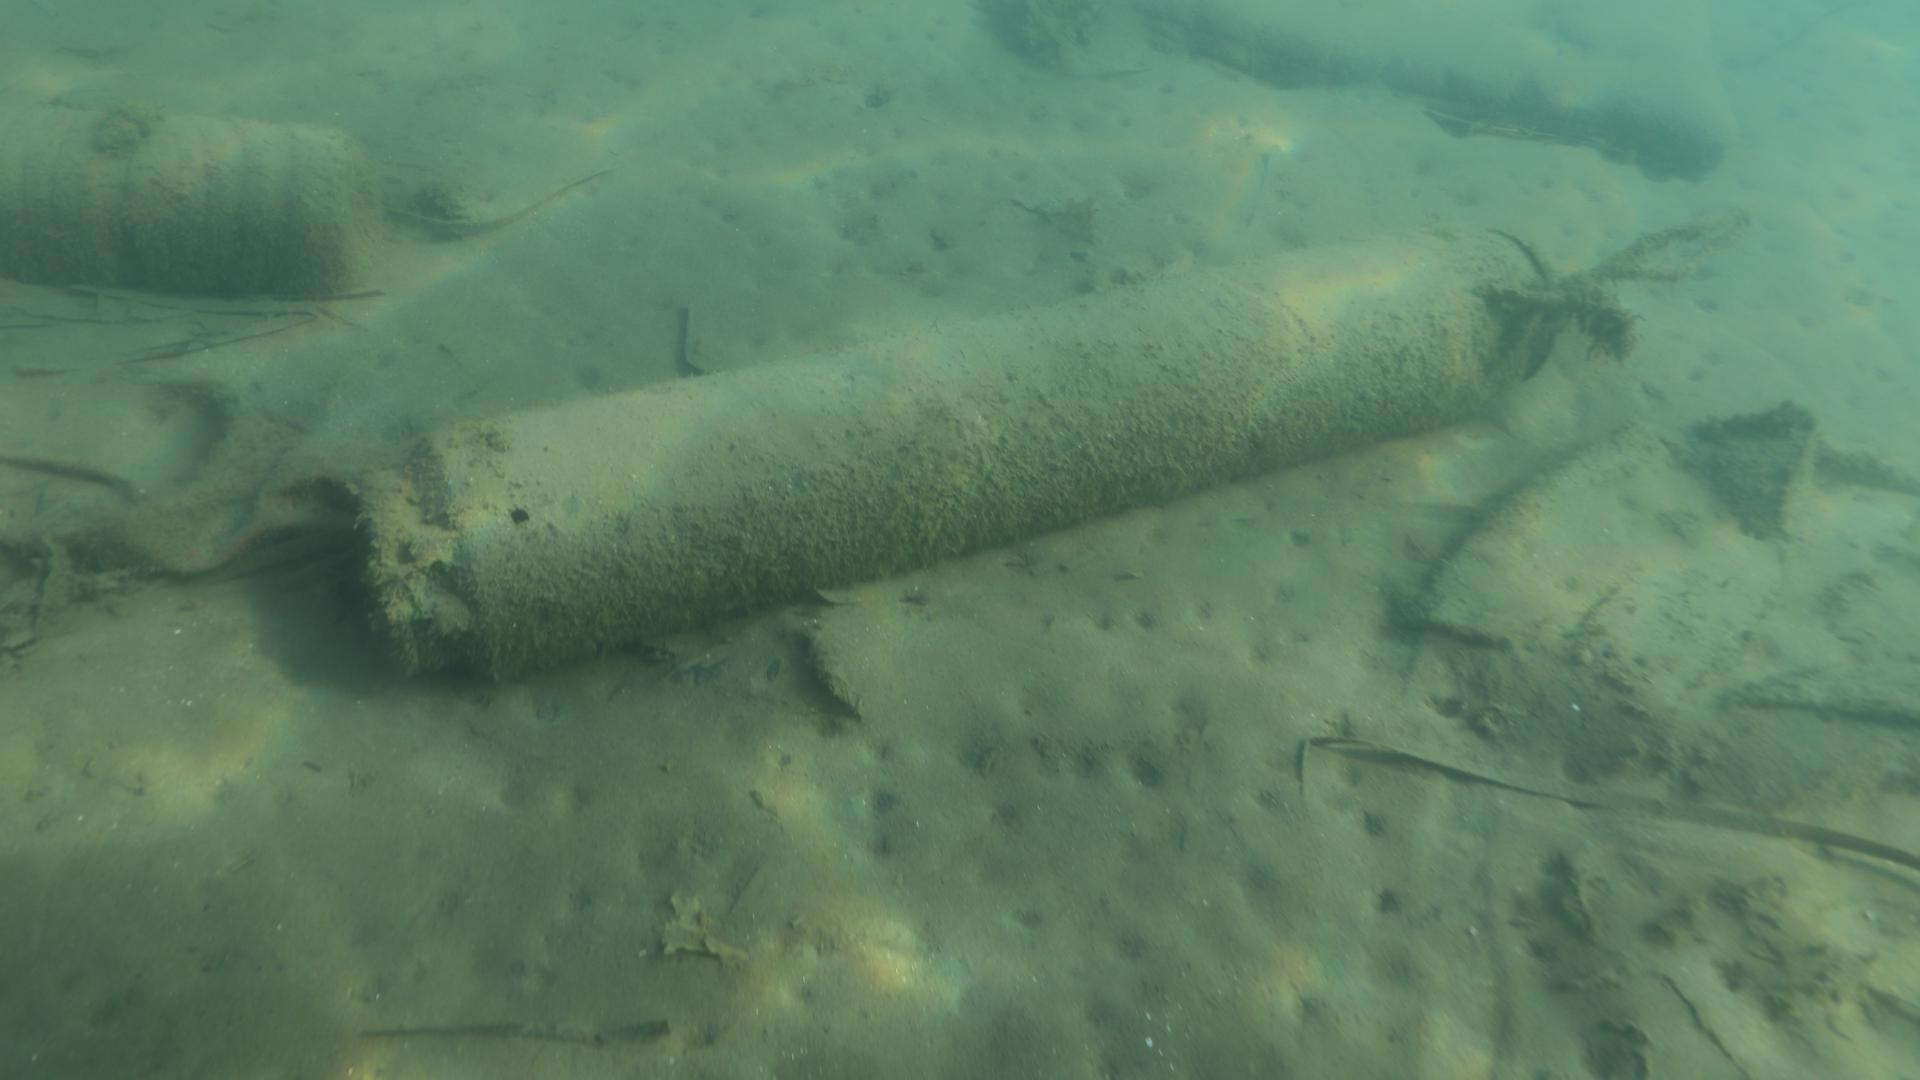eel fish trap: (345, 229, 1560, 688)
